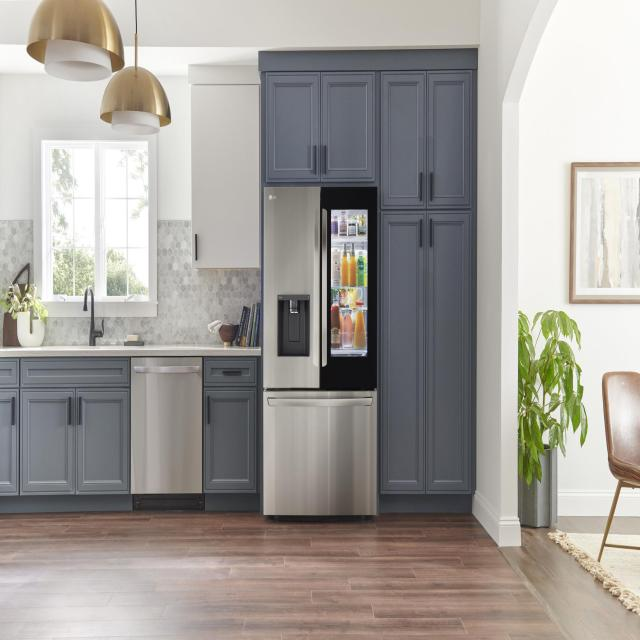dishwasher: (132, 350, 206, 515)
